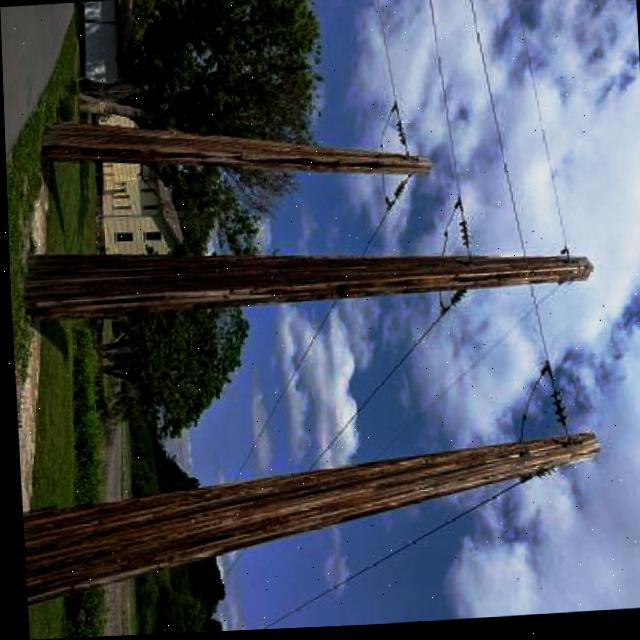poles: (16, 436, 600, 604), (22, 225, 591, 320), (39, 103, 430, 195)
wires: (211, 297, 520, 475), (251, 485, 531, 631), (415, 0, 563, 252), (516, 296, 567, 426)
